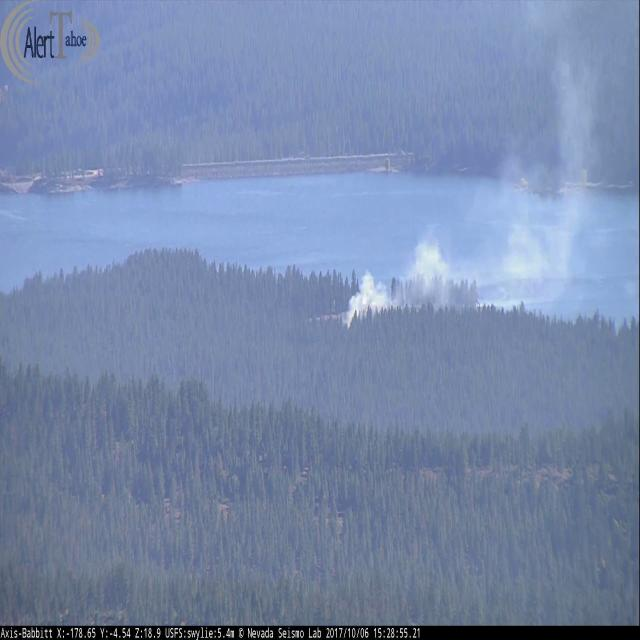smoke: (343, 0, 612, 331)
